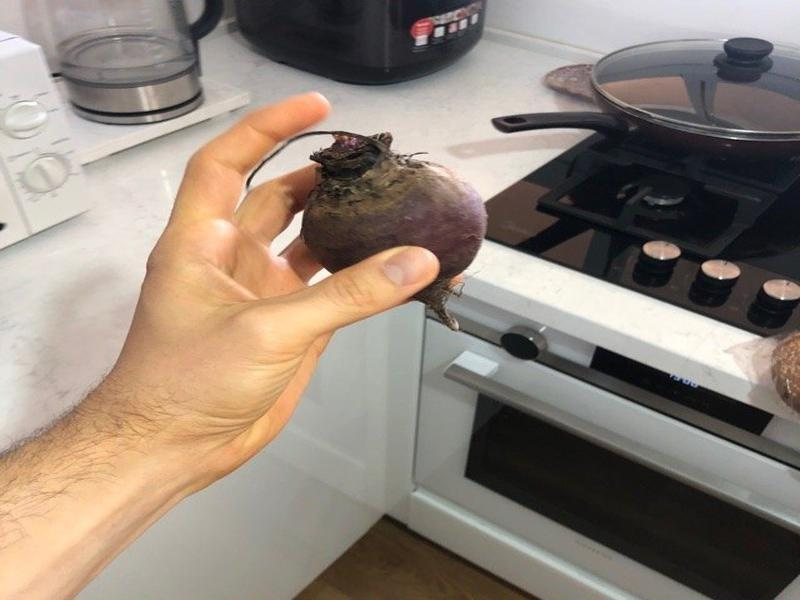Beet: (249, 131, 485, 330)
